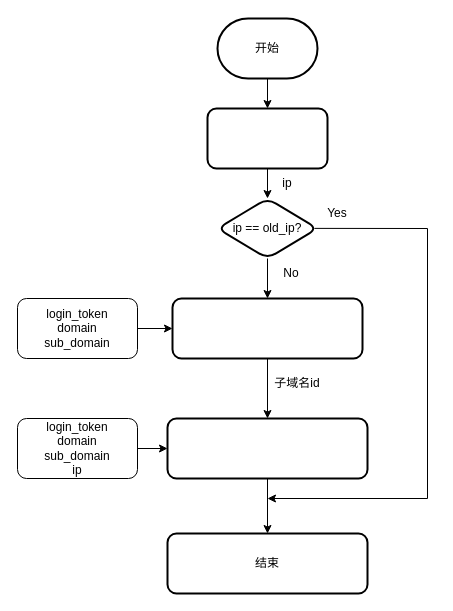
This 453x611 diagram has some shape labels left out. The shapes that lost their labels are listed below. From the top down, each one's box as (x1, y1, x2, y2) in pixels, then its label:
(206, 107, 328, 169): http://ip6only.me
(171, 297, 363, 359): https://dnsapi.cn/Record.List
(166, 417, 368, 479): https://dnsapi.cn/Record.Ddns
